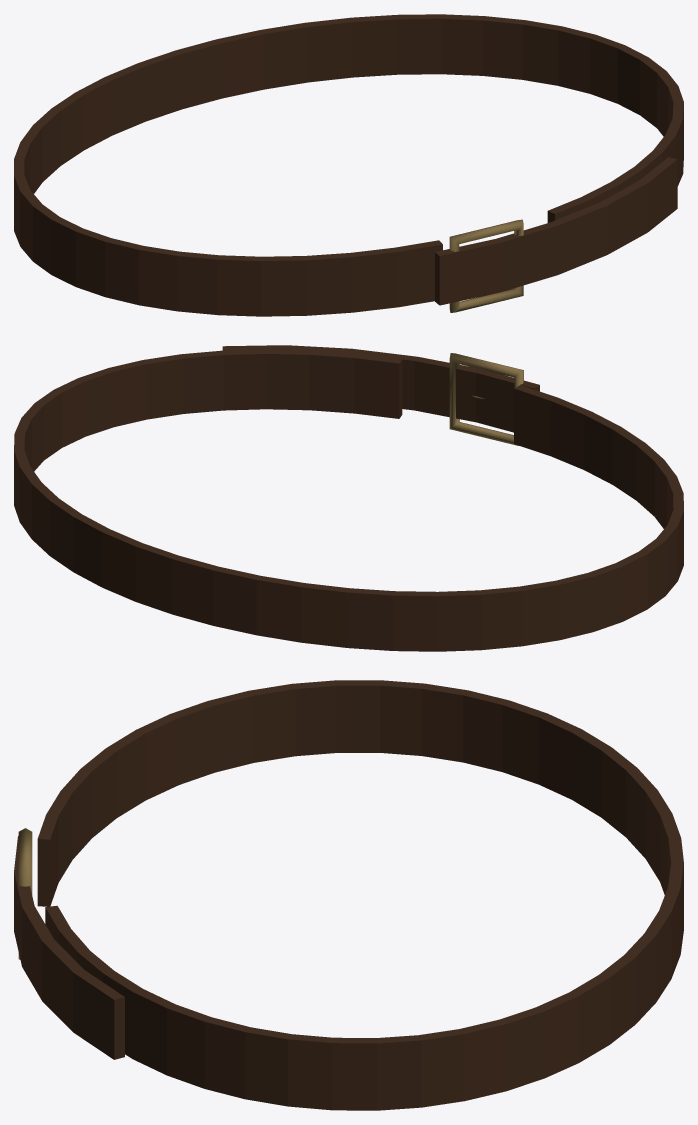
The model's file is belt_frayed.glb.
The picture shows the model from 3 angles, top to bottom: view 1: azimuth 30°, elevation 25°; view 2: azimuth 150°, elevation 25°; view 3: azimuth 270°, elevation 25°; orthographic projection. The views are drawn at different scales.
Parts seen in each view (by area): view 1: Belt_Frayed_Worn_leather, Belt_Frayed_Tarnished; view 2: Belt_Frayed_Worn_leather, Belt_Frayed_Tarnished; view 3: Belt_Frayed_Worn_leather, Belt_Frayed_Tarnished.
Part boxes in pixels (x1,y1,x2,y2): Belt_Frayed_Worn_leather: (14,14,683,316); Belt_Frayed_Tarnished: (449,219,523,312); Belt_Frayed_Worn_leather: (14,345,683,651); Belt_Frayed_Tarnished: (449,353,523,445); Belt_Frayed_Worn_leather: (14,680,683,1110); Belt_Frayed_Tarnished: (18,828,32,959).
Bounding box in the file's own units: 0.3242 × 0.0382 × 0.2527.
